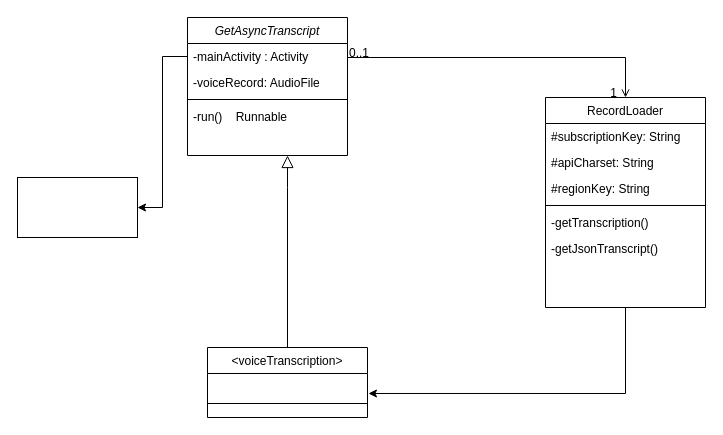
Image size: 723x435. Some labels were removed from this diagram. The centre of each missing label's shape, as x and y in pixels:
-voiceToMain : String: point 287,382
mainActivity: point 77,207
